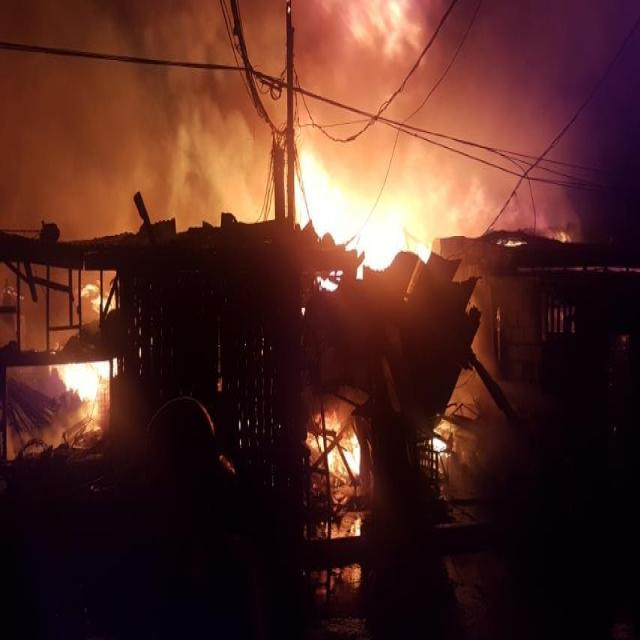Fire: (293, 136, 432, 266), (309, 422, 361, 480), (55, 358, 108, 408)
Smoke: (84, 13, 276, 240)
